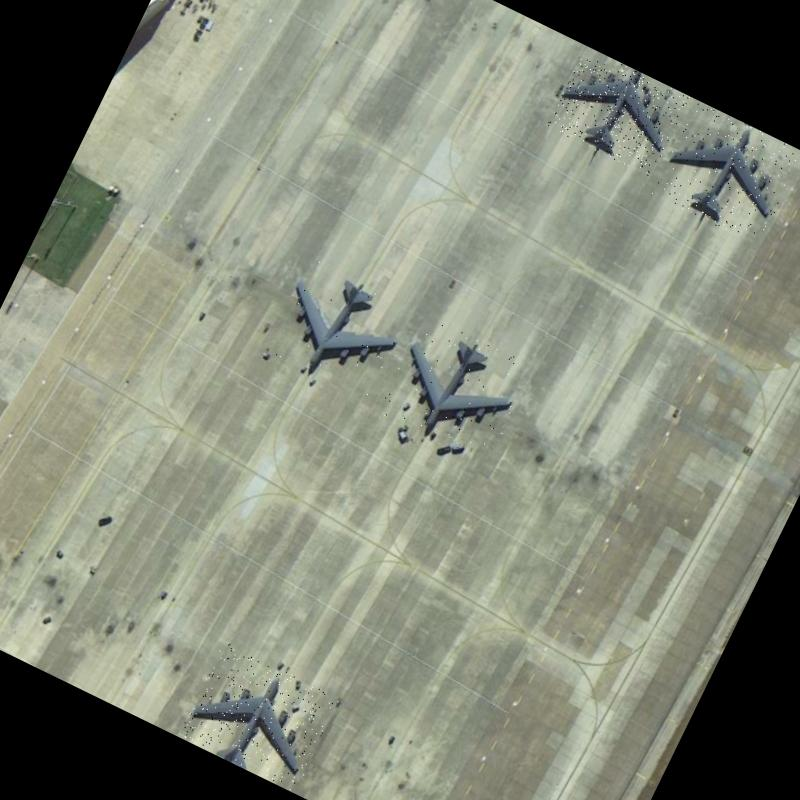A8: (178, 641, 340, 792), (376, 312, 534, 466), (262, 256, 417, 403), (650, 99, 800, 246), (546, 46, 689, 177)
